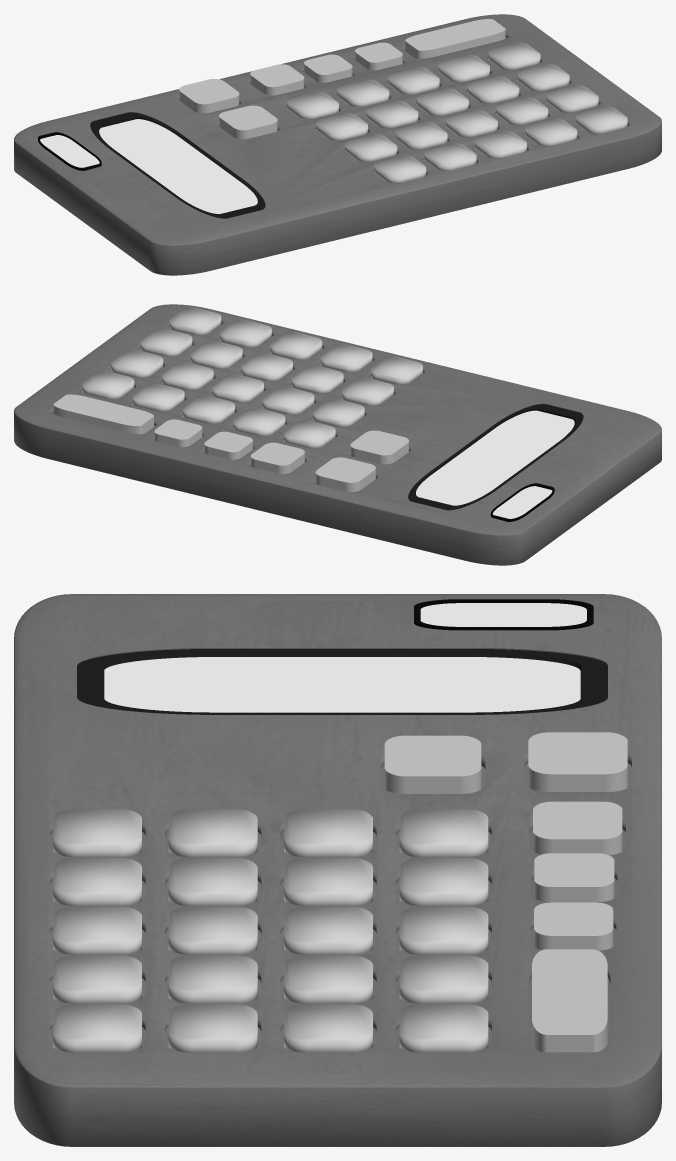
The model's file is Calculadora.glb.
The picture shows the model from 3 angles, top to bottom: view 1: azimuth 30°, elevation 25°; view 2: azimuth 150°, elevation 25°; view 3: azimuth 270°, elevation 25°; orthographic projection. The views are drawn at different scales.
Parts seen in each view (by area): view 1: Cube, Cube.029, Cube.021, Cube.027, Cube.025, Cube.026, Cube.024, Cube.002, Cube.004, Cube.005, Cube.001, Cube.006 (+19 smaller); view 2: Cube, Cube.029, Cube.021, Cube.027, Cube.025, Cube.026, Cube.024, Cube.001, Cube.006, Cube.016, Cube.012, Cube.014 (+19 smaller); view 3: Cube, Cube.029, Cube.027, Cube.021, Cube.025, Cube.026, Cube.024, Cube.010, Cube.020, Cube.005, Cube.006, Cube.016 (+19 smaller).
Boxes of the visible parts, x1,y1,x2,y2 form: Cube: (14, 14, 661, 275); Cube.029: (99, 119, 257, 213); Cube.021: (405, 19, 505, 58); Cube.027: (90, 112, 265, 218); Cube.025: (179, 79, 239, 113); Cube.026: (219, 105, 277, 139); Cube.024: (250, 64, 304, 95); Cube.002: (525, 118, 577, 146); Cube.004: (424, 143, 476, 170); Cube.005: (374, 155, 426, 183); Cube.001: (575, 106, 627, 133); Cube.006: (546, 85, 598, 112); Cube: (14, 304, 661, 565); Cube.029: (416, 410, 574, 505); Cube.021: (53, 394, 153, 434); Cube.027: (408, 404, 583, 510); Cube.025: (315, 457, 375, 492); Cube.026: (350, 430, 408, 464); Cube.024: (250, 442, 304, 473); Cube.001: (169, 307, 221, 335); Cube.006: (140, 329, 192, 356); Cube.016: (82, 371, 134, 399); Cube.012: (161, 362, 213, 390); Cube.014: (262, 387, 314, 414); Cube: (14, 594, 661, 1146); Cube.029: (104, 657, 580, 712); Cube.027: (77, 649, 607, 714); Cube.021: (532, 949, 607, 1052); Cube.025: (528, 732, 627, 791); Cube.026: (384, 735, 481, 793); Cube.024: (533, 801, 622, 855); Cube.010: (168, 808, 257, 857); Cube.020: (399, 808, 488, 857); Cube.005: (53, 808, 141, 857); Cube.006: (168, 1004, 257, 1052); Cube.016: (399, 1004, 488, 1052).
Size of the model in its own units: 3.6 by 0.2938 by 2.
Materials: 6 (5 with a texture image).
